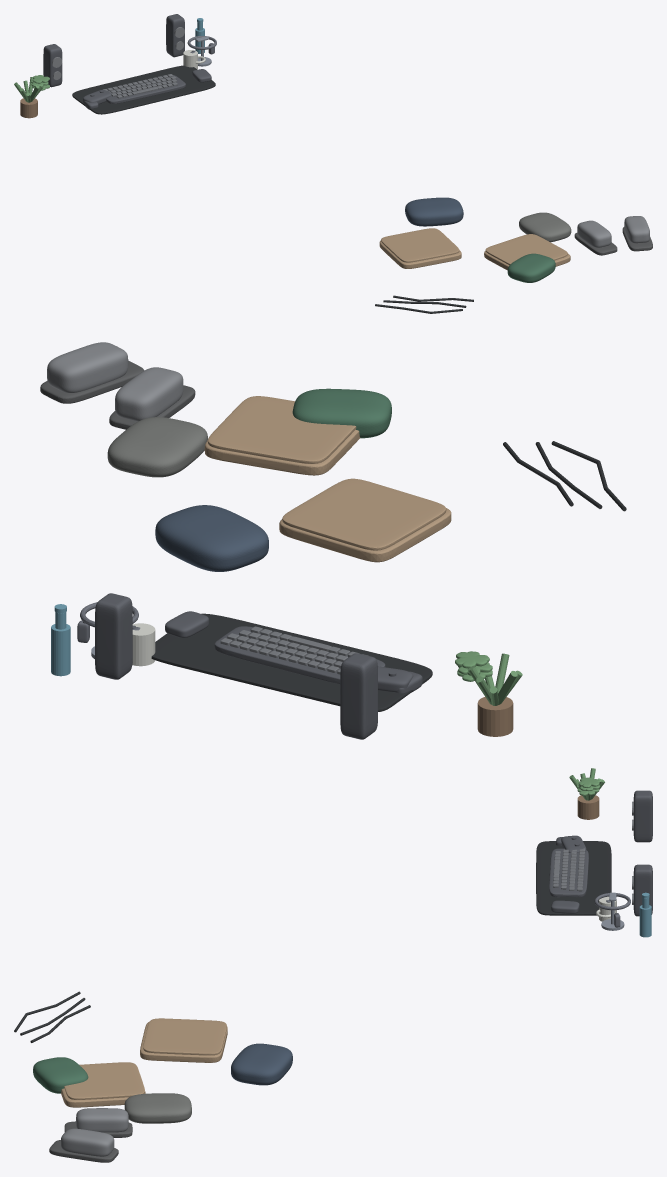
The model's file is original-room-details.glb.
3 renders of one model, top to bottom at view 1: azimuth 30°, elevation 25°; view 2: azimuth 150°, elevation 25°; view 3: azimuth 270°, elevation 25°, orthographic. The views are drawn at different scales.
Visible parts, largest first — view 1: pizza_box_p4_15, deskmat_p4_3, pizza_box_p4_16, laundry_p4_0_17, sneaker_uppers_p4_21, laundry_p4_1_18, laundry_p4_2_19, keyboard_keys_p4_5, cables_p4_22, speaker_p4_11, speaker_p4_9, sneaker_soles_p4_20 (+2 smaller); view 2: pizza_box_p4_15, pizza_box_p4_16, deskmat_p4_3, sneaker_uppers_p4_21, laundry_p4_0_17, laundry_p4_1_18, laundry_p4_2_19, speaker_p4_11, speaker_p4_9, keyboard_keys_p4_5, plant_leaves_p4_14, sneaker_soles_p4_20 (+8 smaller); view 3: pizza_box_p4_15, deskmat_p4_3, pizza_box_p4_16, sneaker_uppers_p4_21, laundry_p4_0_17, laundry_p4_1_18, laundry_p4_2_19, keyboard_base_p4_4, speaker_p4_9, keyboard_keys_p4_5, sneaker_soles_p4_20, speaker_p4_11 (+2 smaller).
Boxes of the visible parts, bbox=[...] form: pizza_box_p4_15: bbox=[379, 228, 461, 268]; deskmat_p4_3: bbox=[72, 65, 215, 114]; pizza_box_p4_16: bbox=[484, 234, 570, 270]; laundry_p4_0_17: bbox=[405, 197, 463, 226]; sneaker_uppers_p4_21: bbox=[577, 216, 649, 247]; laundry_p4_1_18: bbox=[519, 212, 571, 242]; laundry_p4_2_19: bbox=[507, 253, 555, 282]; keyboard_keys_p4_5: bbox=[103, 74, 177, 98]; cables_p4_22: bbox=[375, 295, 473, 313]; speaker_p4_11: bbox=[166, 14, 184, 57]; speaker_p4_9: bbox=[43, 44, 62, 87]; sneaker_soles_p4_20: bbox=[574, 227, 652, 255]; pizza_box_p4_15: bbox=[279, 478, 451, 562]; pizza_box_p4_16: bbox=[204, 396, 360, 475]; deskmat_p4_3: bbox=[151, 613, 432, 711]; sneaker_uppers_p4_21: bbox=[47, 342, 183, 421]; laundry_p4_0_17: bbox=[155, 505, 268, 571]; laundry_p4_1_18: bbox=[107, 417, 207, 477]; laundry_p4_2_19: bbox=[292, 388, 391, 438]; speaker_p4_11: bbox=[95, 593, 132, 679]; speaker_p4_9: bbox=[340, 653, 377, 739]; keyboard_keys_p4_5: bbox=[220, 626, 368, 674]; plant_leaves_p4_14: bbox=[455, 651, 522, 705]; sneaker_soles_p4_20: bbox=[40, 360, 195, 429]; pizza_box_p4_15: bbox=[140, 1018, 227, 1062]; deskmat_p4_3: bbox=[536, 841, 611, 915]; pizza_box_p4_16: bbox=[61, 1062, 145, 1107]; sneaker_uppers_p4_21: bbox=[61, 1108, 128, 1156]; laundry_p4_0_17: bbox=[231, 1043, 292, 1085]; laundry_p4_1_18: bbox=[124, 1093, 191, 1123]; laundry_p4_2_19: bbox=[33, 1057, 88, 1093]; keyboard_base_p4_4: bbox=[549, 848, 588, 897]; speaker_p4_9: bbox=[633, 790, 652, 842]; keyboard_keys_p4_5: bbox=[553, 848, 584, 891]; sneaker_soles_p4_20: bbox=[49, 1121, 132, 1162]; speaker_p4_11: bbox=[633, 864, 652, 916].
Bounding box in the file's own units: 5.09 × 1.31 × 5.24.
